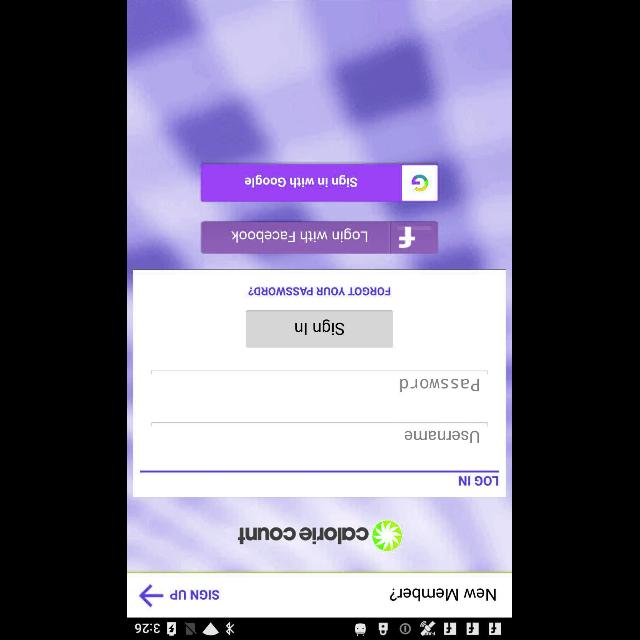icon: (140, 584, 164, 606)
image: (373, 519, 403, 551)
input: (152, 370, 488, 392), (152, 422, 488, 443)
text: (238, 526, 369, 544), (390, 588, 496, 602), (249, 286, 391, 296), (400, 378, 480, 392), (406, 431, 480, 444), (170, 590, 220, 600), (459, 476, 498, 486)
textbutton: (201, 164, 439, 202), (202, 220, 438, 253), (247, 310, 393, 348)
toolbar: (128, 572, 512, 616)
uppertaskbar: (128, 617, 512, 639)
